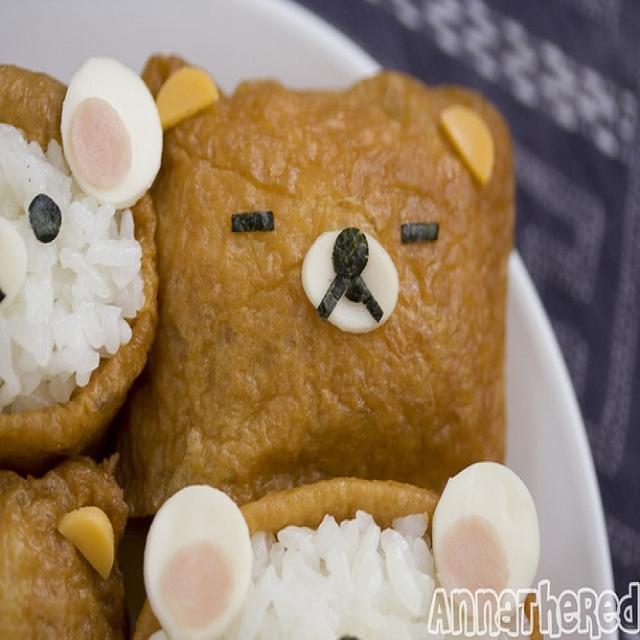寿司卷物: (1, 9, 610, 626)
